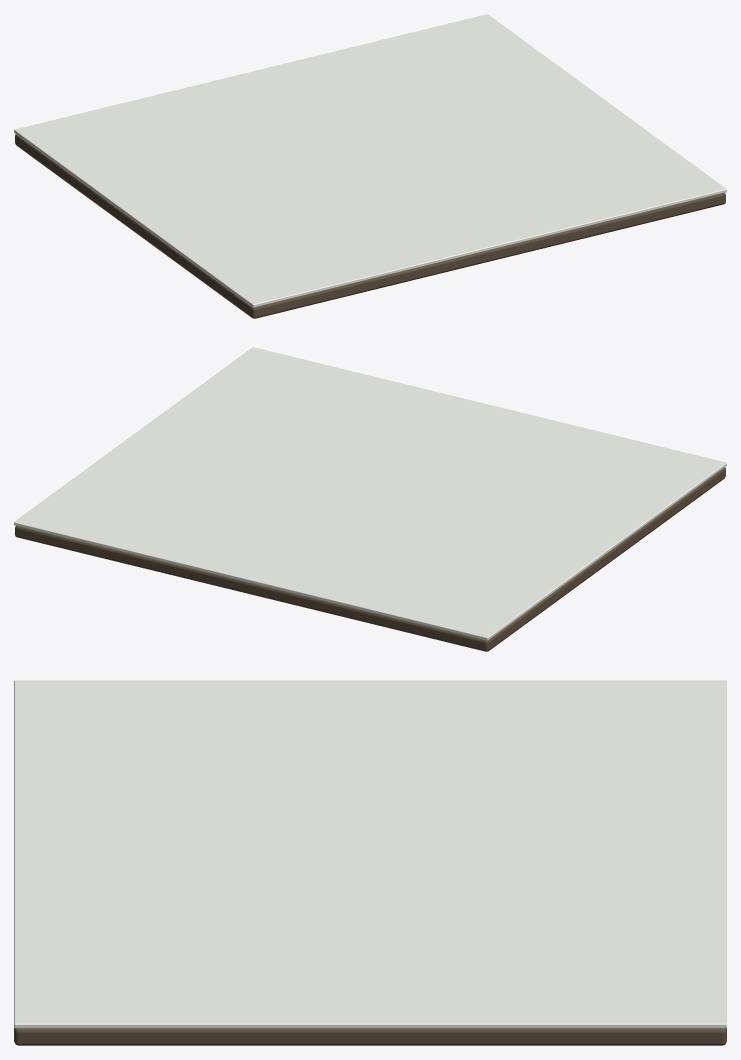
File: almanac-gardens-winter-ground-13b98382__22066.glb
3 renders of one model, top to bottom at view 1: azimuth 30°, elevation 25°; view 2: azimuth 150°, elevation 25°; view 3: azimuth 270°, elevation 25°, orthographic. The views are drawn at different scales.
Parts seen in each view (by area): view 1: winter-ground-snow, winter-ground-soil; view 2: winter-ground-snow, winter-ground-soil; view 3: winter-ground-snow, winter-ground-soil.
Boxes of the visible parts, box(x1,y1,x2,y2) form: winter-ground-snow: box(14, 14, 726, 307); winter-ground-soil: box(15, 134, 725, 318); winter-ground-snow: box(14, 347, 726, 640); winter-ground-soil: box(15, 467, 725, 651); winter-ground-snow: box(14, 680, 726, 1028); winter-ground-soil: box(14, 1028, 726, 1045).
Bounding box in the file's own units: 8 × 0.2549 × 7.
